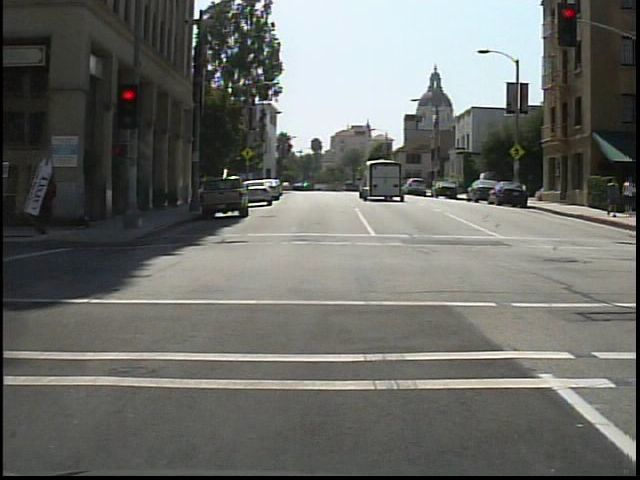person: (29, 165, 70, 237), (602, 174, 622, 221), (620, 175, 635, 217)
